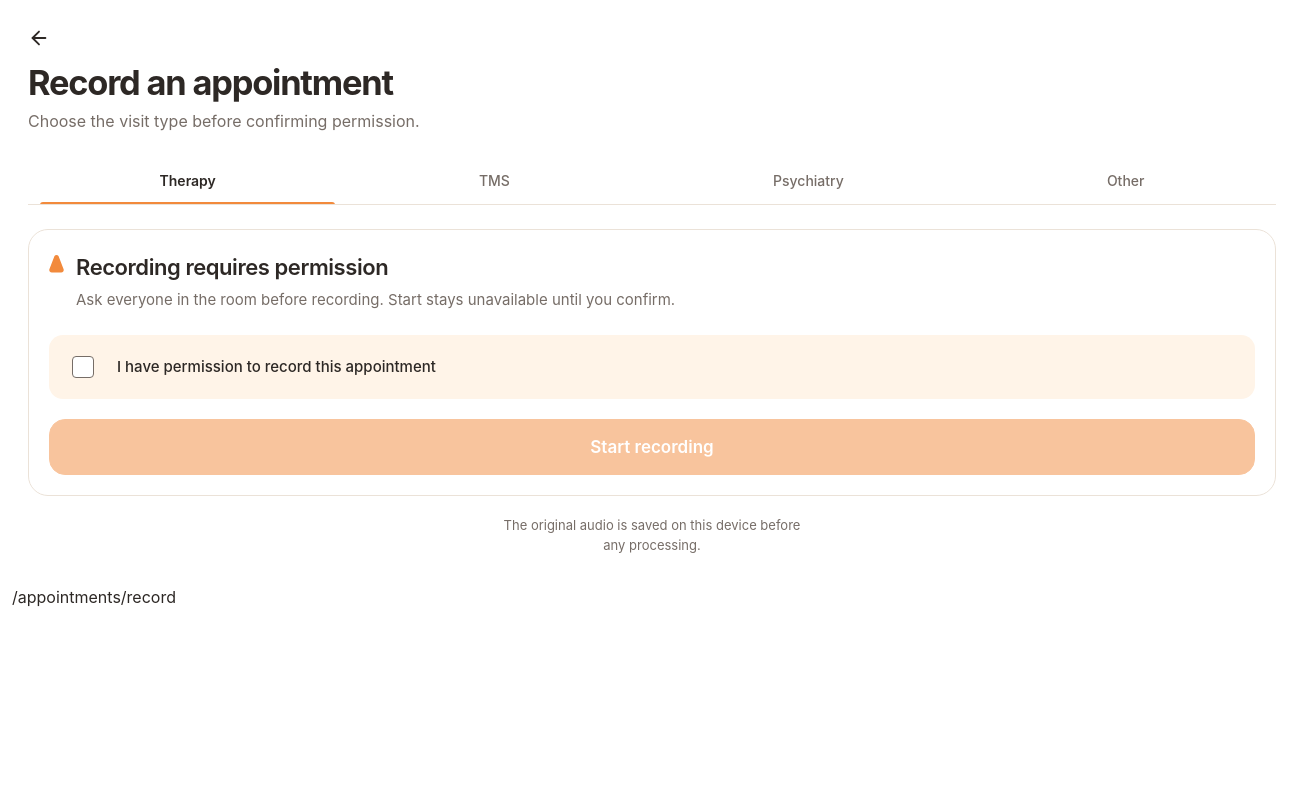
Test: appointment consent › associates the disabled Start reason and clears consent when type changes
The width and height of the screenshot is (1292, 800).
Check: the button "Start recording" is disabled, box top-left (49, 419), bottom-right (1255, 475)
Click the checkbox labelled "I have permission to record this appointment" at (276, 366), box top-left (49, 335), bottom-right (1255, 399)
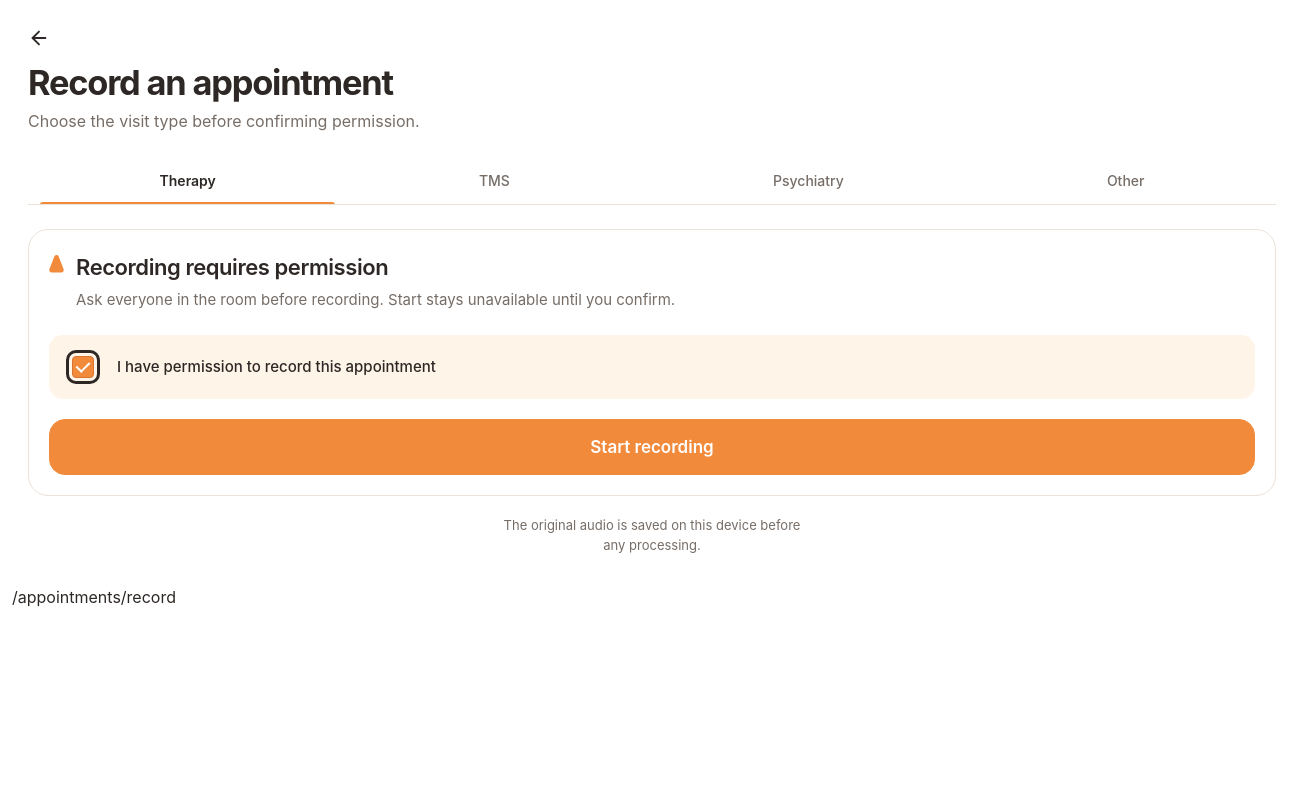
Check: the button "Start recording" is enabled, box top-left (49, 419), bottom-right (1255, 475)
Click the tab "TMS" at (494, 181), box top-left (347, 157), bottom-right (642, 204)
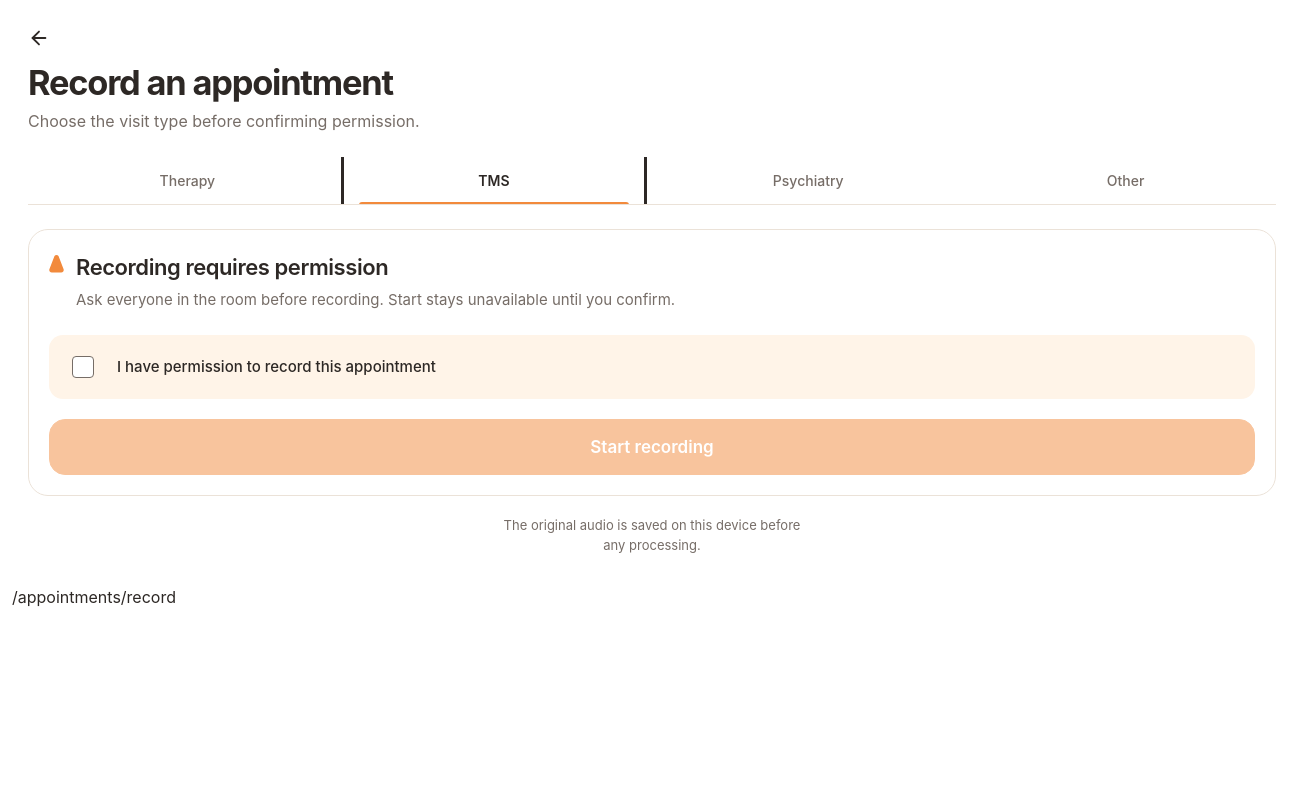
Check: the checkbox labelled "I have permission to record this appointment" is not checked, box top-left (49, 335), bottom-right (1255, 399)
Check: the button "Start recording" is disabled, box top-left (49, 419), bottom-right (1255, 475)
